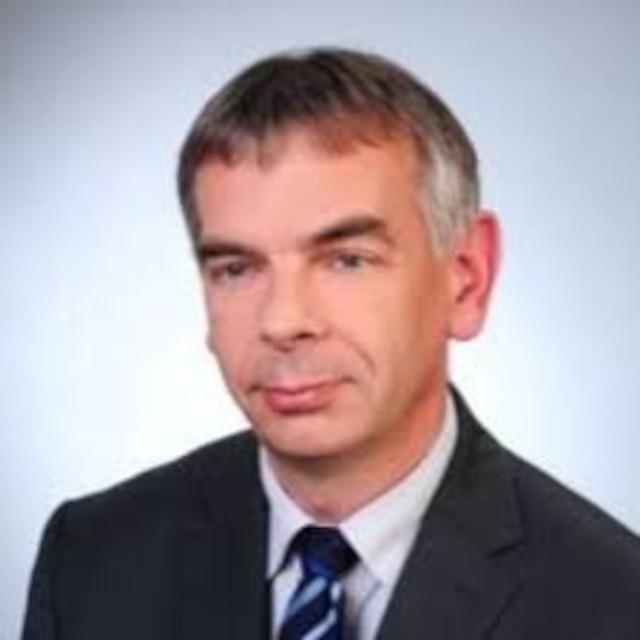mezczyzna: (16, 52, 640, 640)
